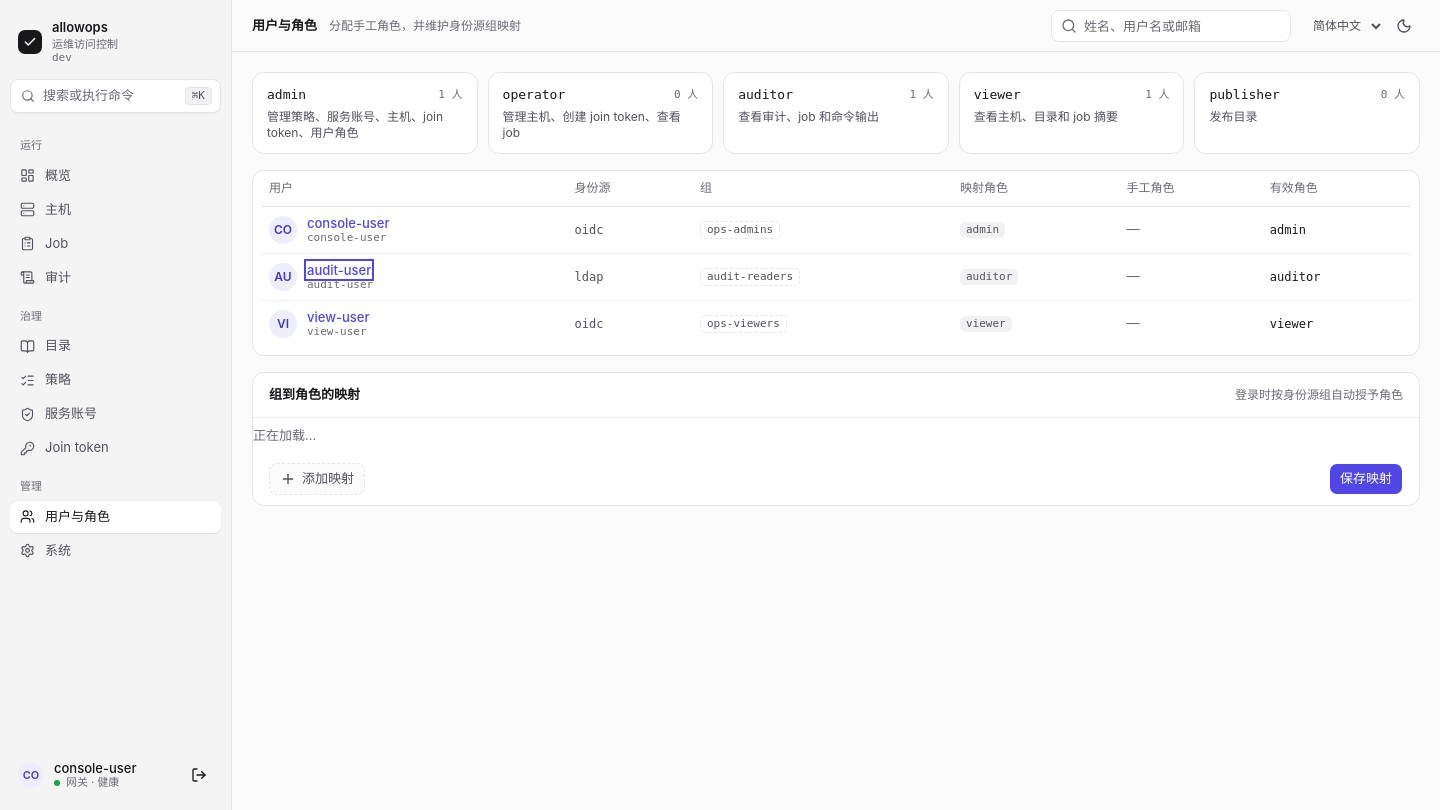
Test: users redesign › locks mapping-derived roles and keeps manual roles when saving
Expected: the heading "用户与角色" is shown, [252,16,317,35]
Click the button with aria-label "分配角色 audit-user": (339, 270) [307,262,371,278]
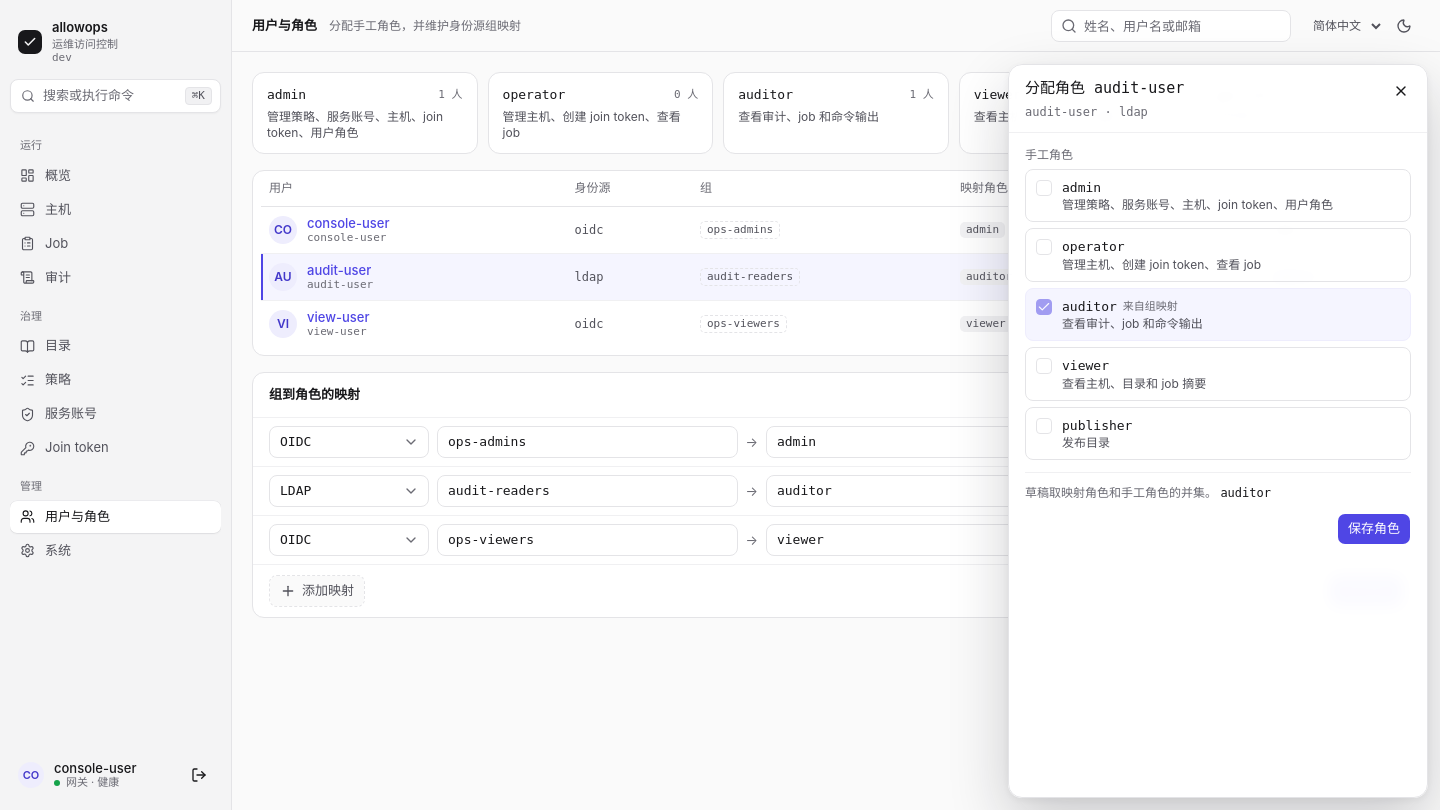
Result: the checkbox named "auditor" is disabled at [1036,298,1052,314]
Result: the text "来自组映射" is shown at [1123,298,1178,314]
Click the checkbox named "operator": (1044, 247) [1036,239,1052,255]
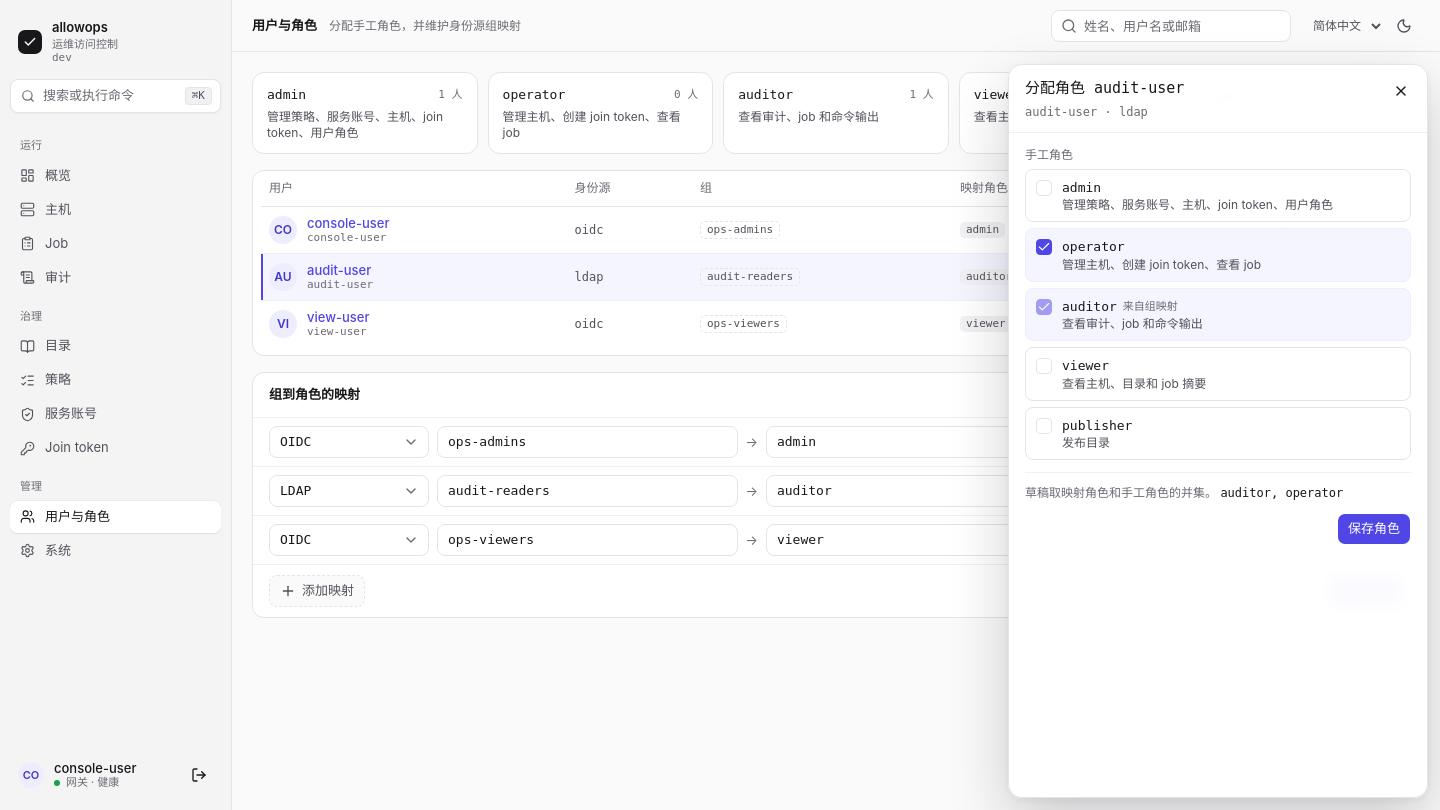
Result: the element "分配角色 audit-user" shows "auditor, operator" at [1220,486,1343,500]
Click the button "保存角色": (1374, 529) [1337,513,1411,545]
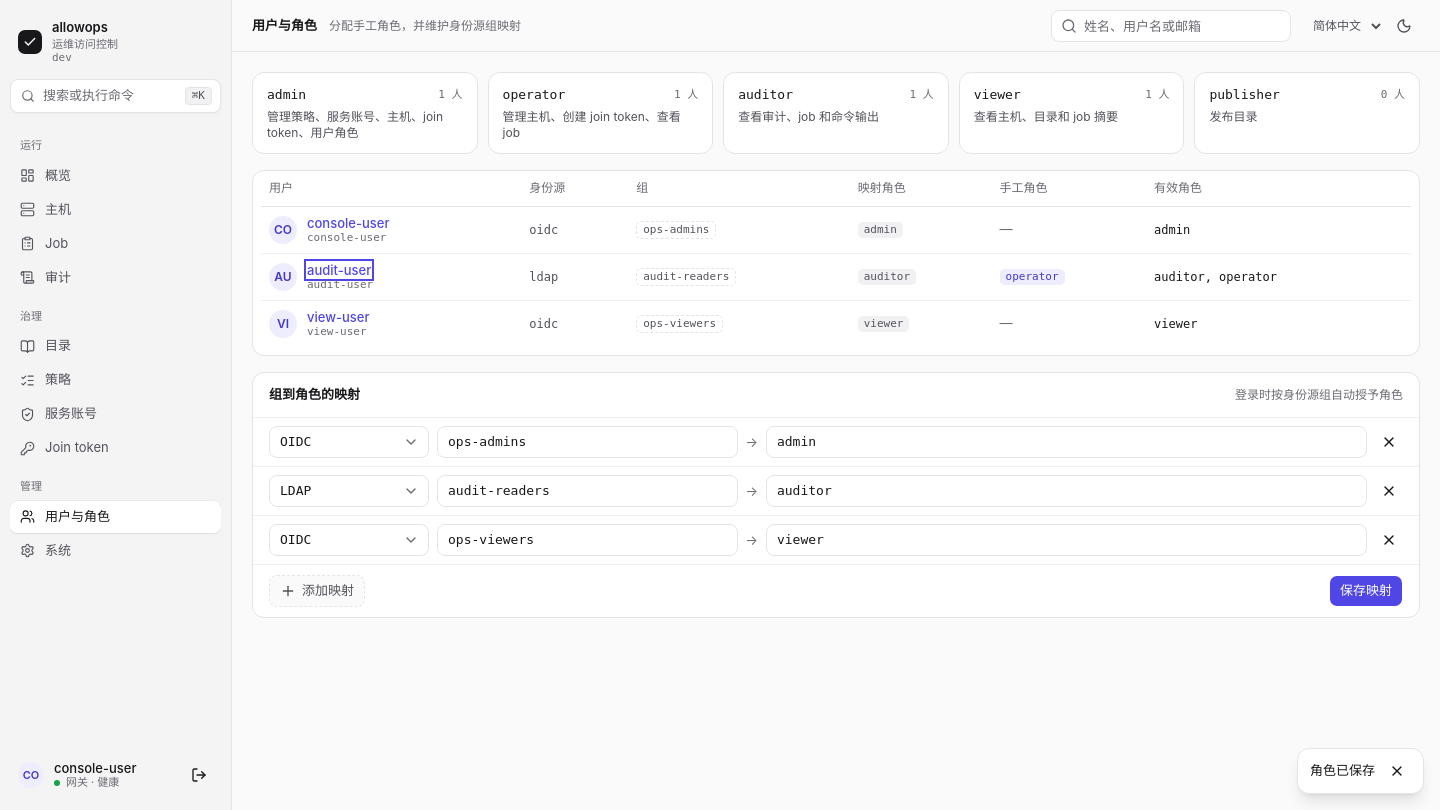
Result: the heading "分配角色 audit-user" is gone
